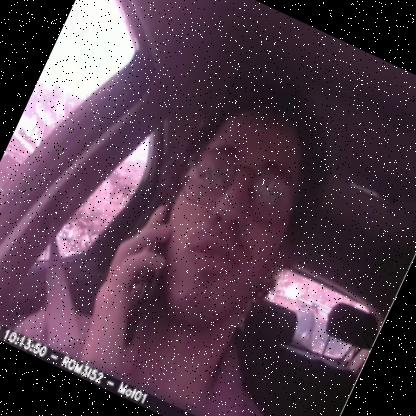phone: (96, 184, 200, 350)
